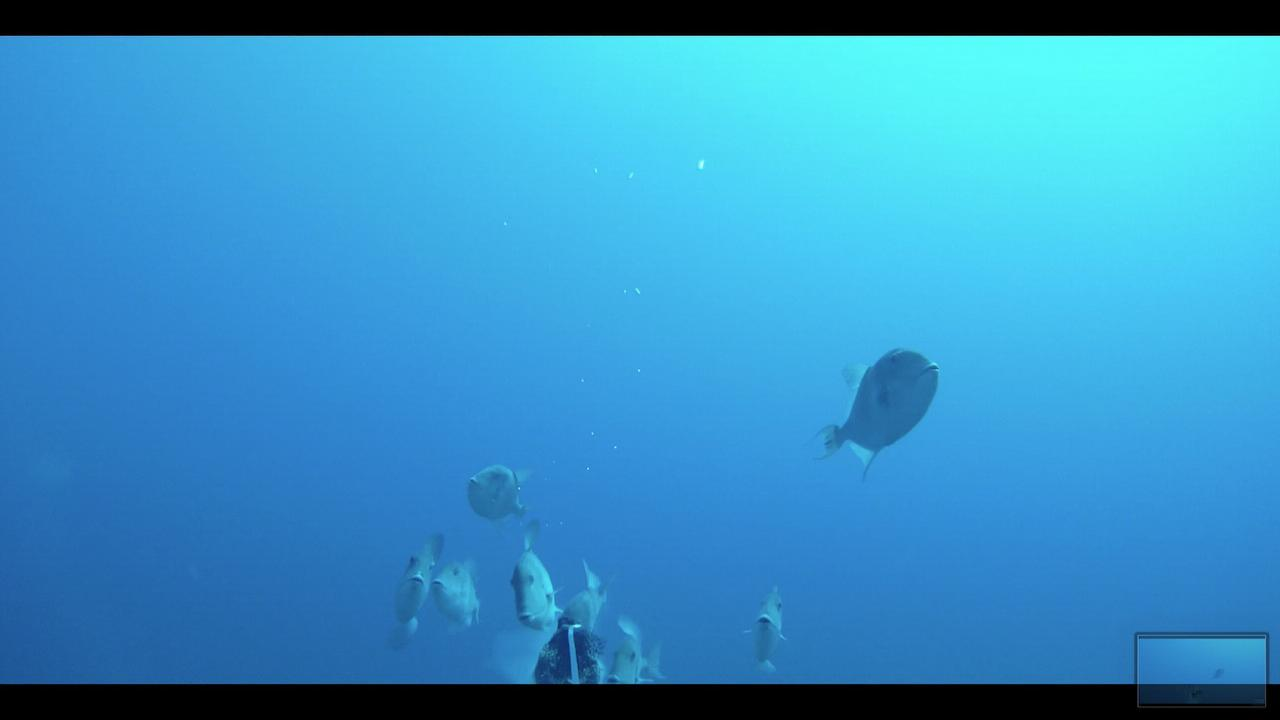balistes: (804, 345, 943, 487), (505, 515, 567, 634), (393, 518, 445, 652), (461, 456, 533, 536), (562, 555, 619, 640), (430, 556, 487, 640), (742, 578, 789, 678), (607, 615, 666, 682)
